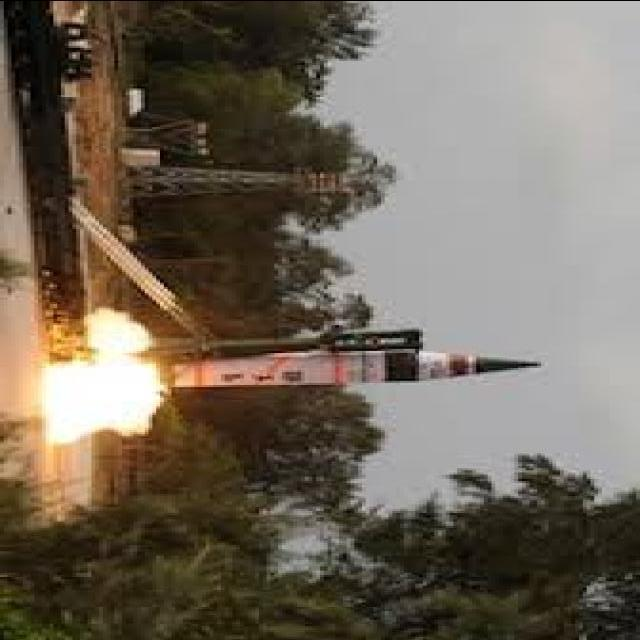missile: (172, 349, 540, 390)
